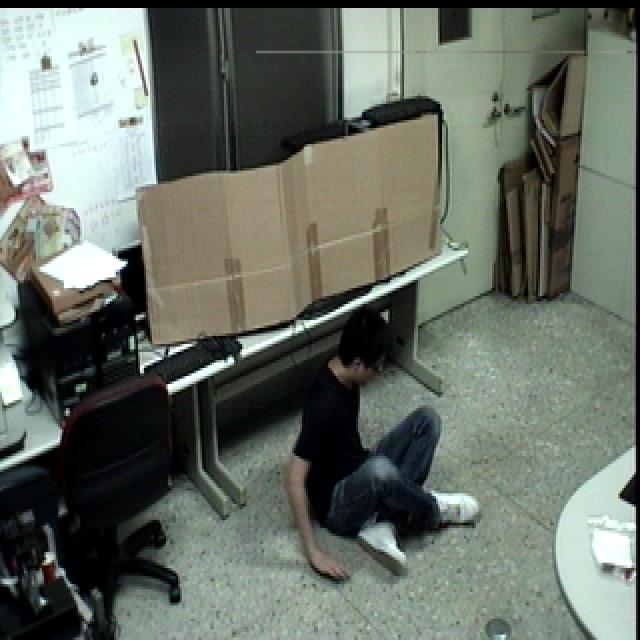sit: (284, 298, 482, 589)
